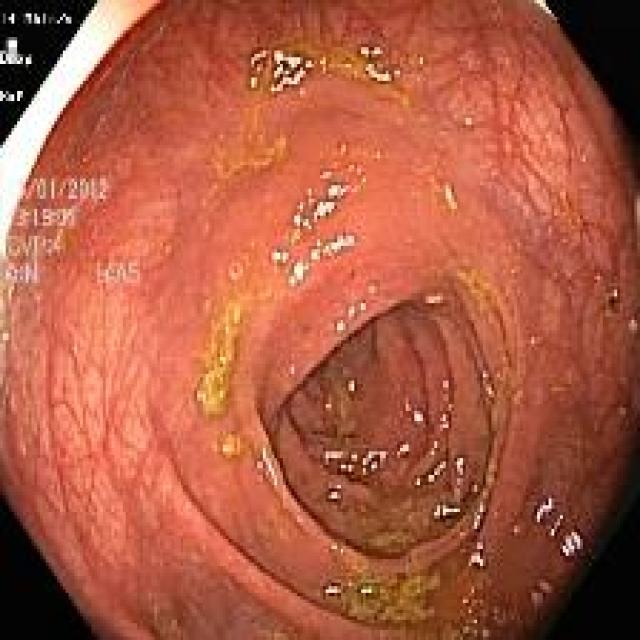ulcerative-colitis-grade-0-1: (114, 41, 593, 268), (0, 237, 259, 640)
